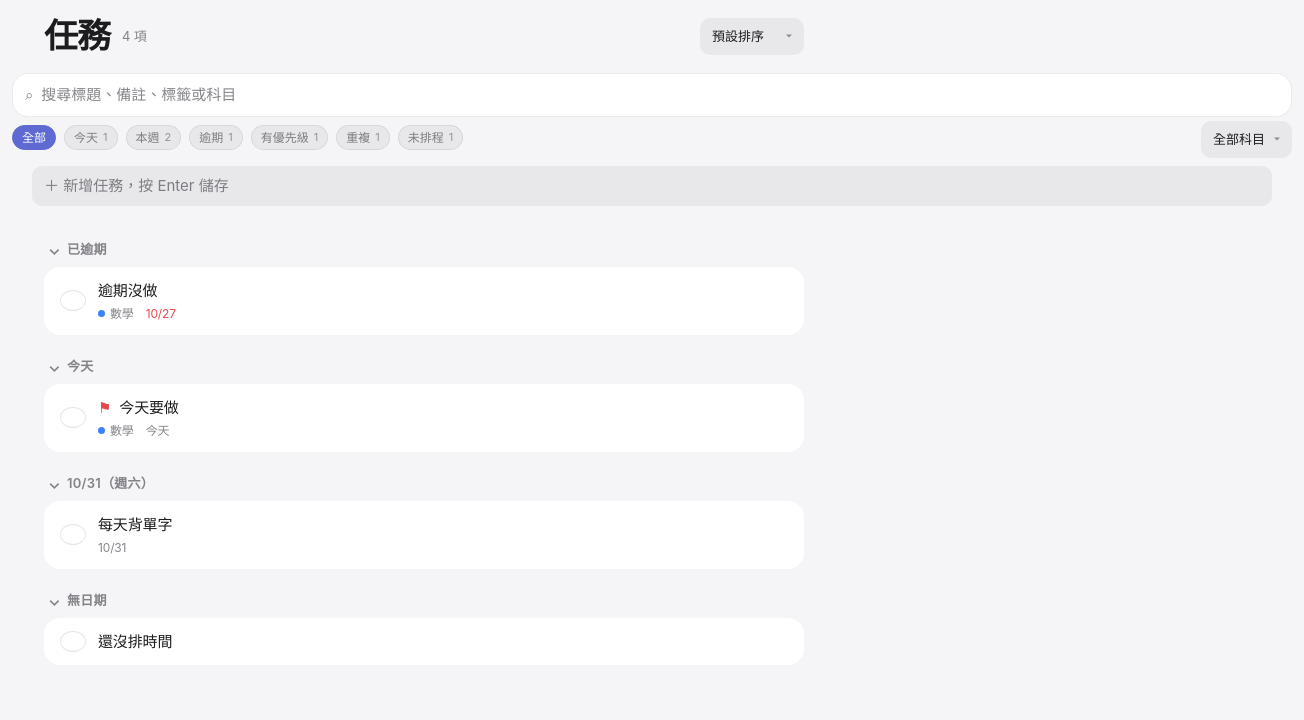
Test case: §E 任務第一層 filters › 點「逾期」只留逾期那一筆
Step 1. Click the tab "逾期 1" → point(216, 138), box [189, 125, 243, 150]
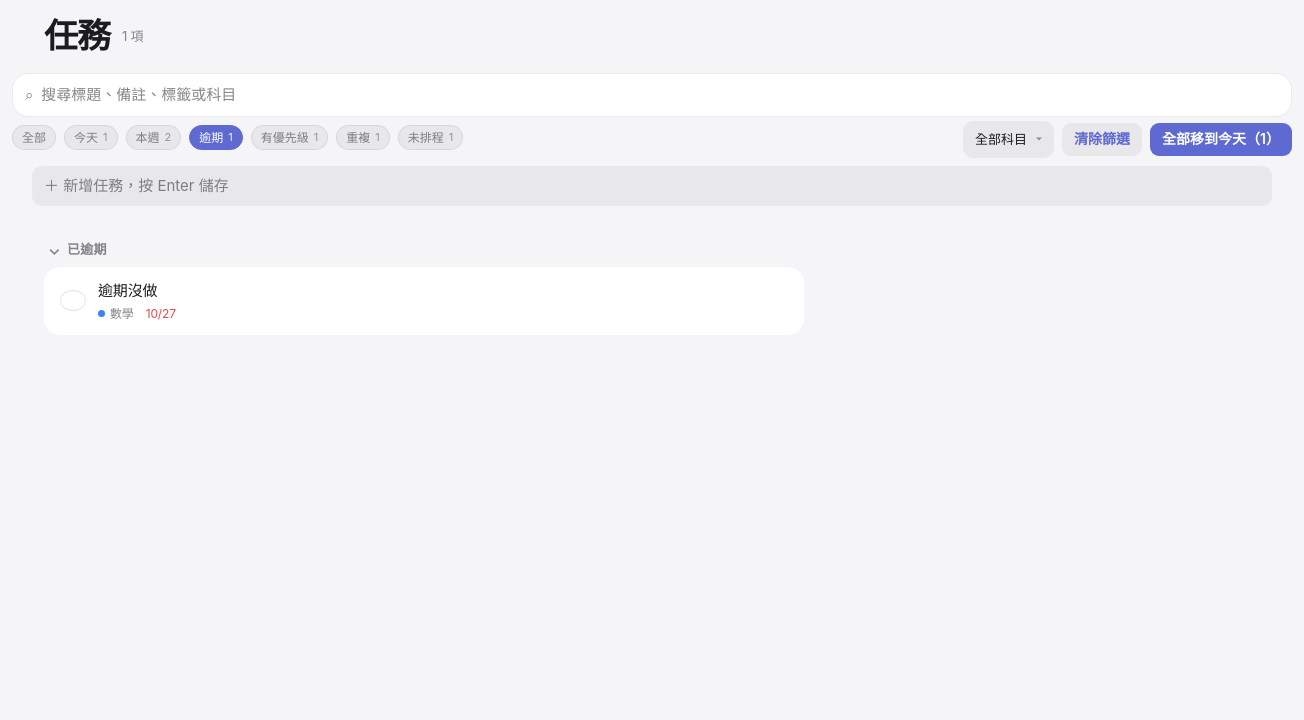
expect the text "逾期沒做" is shown: met, box [98, 281, 157, 300]
expect the text "今天要做" is gone: met
expect the text "還沒排時間" is gone: met
